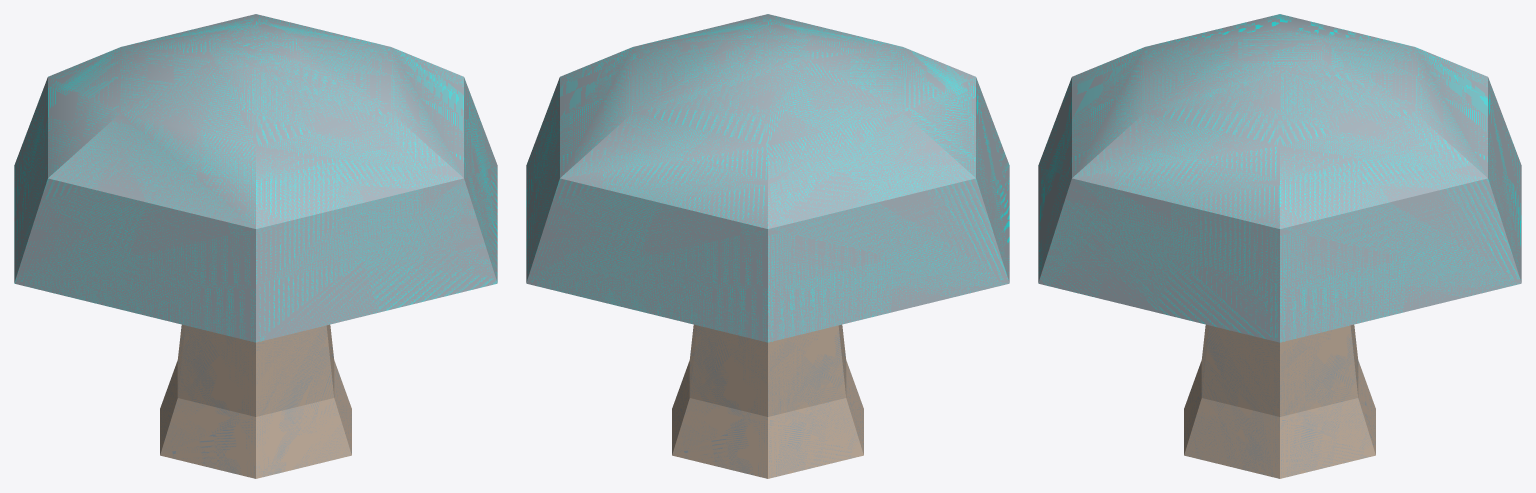
Rendered from Mushroom_08.fbx.
3 renders of one model, left to right at view 1: azimuth 30°, elevation 25°; view 2: azimuth 150°, elevation 25°; view 3: azimuth 270°, elevation 25°, orthographic.
Parts seen in each view (by area): view 1: Model; view 2: Model; view 3: Model.
Boxes of the visible parts, x1=… form: Model: x1=14, y1=14, x2=497, y2=478; Model: x1=526, y1=14, x2=1009, y2=478; Model: x1=1038, y1=14, x2=1521, y2=478.
Bounding box in the file's own units: 61.14 × 46.23 × 52.95.
